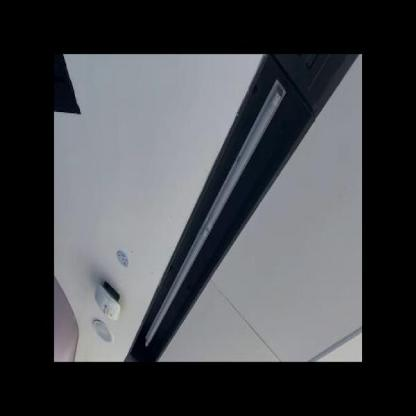light_off: (141, 76, 290, 351)
